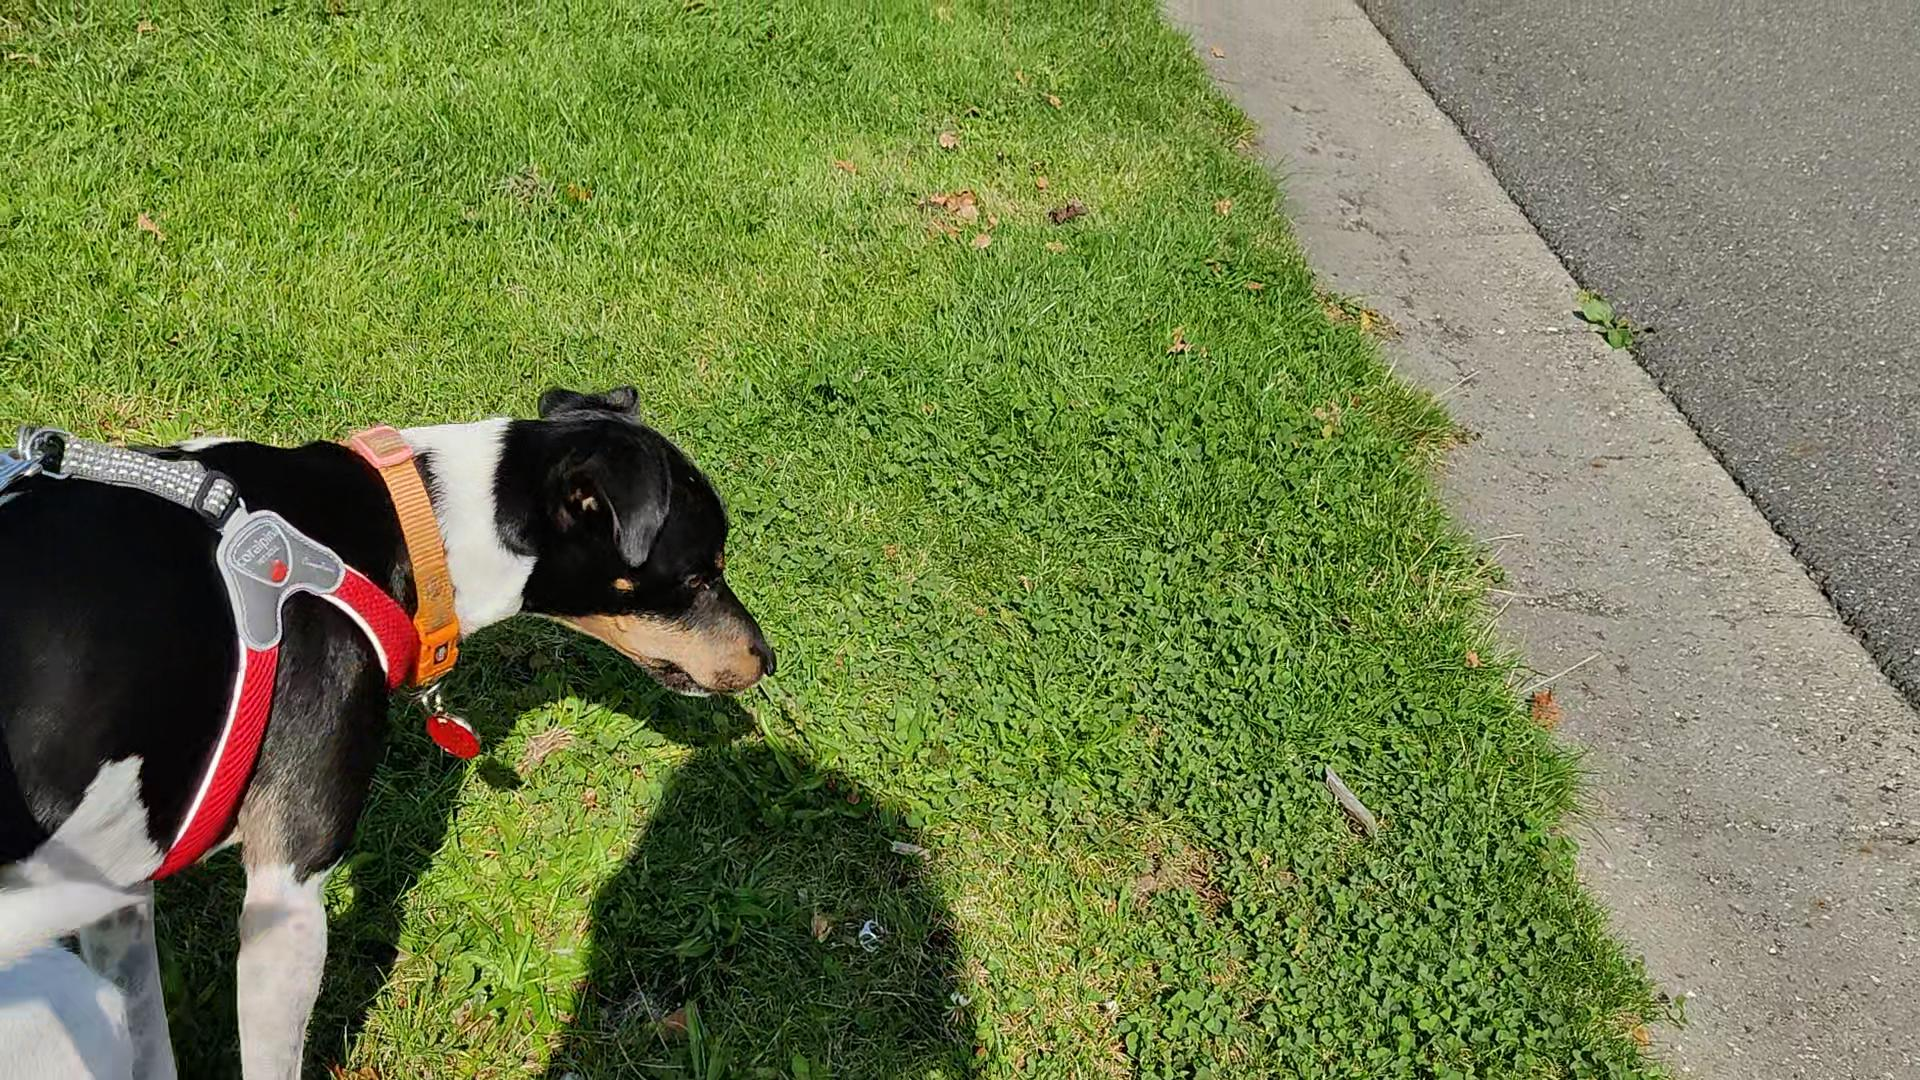Dog: (0, 377, 785, 1079)
